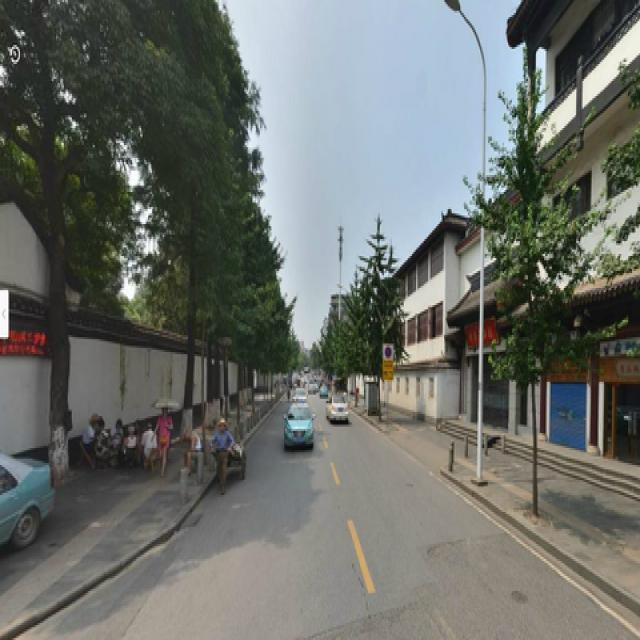gink: (495, 102, 565, 532)
